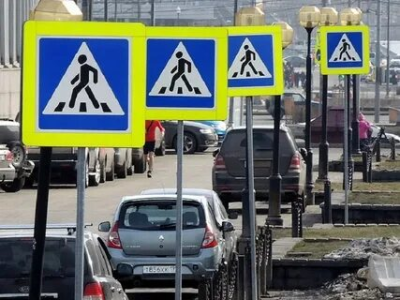crosswalk: (37, 36, 128, 128), (148, 39, 215, 107), (228, 35, 273, 84), (327, 34, 362, 66)
